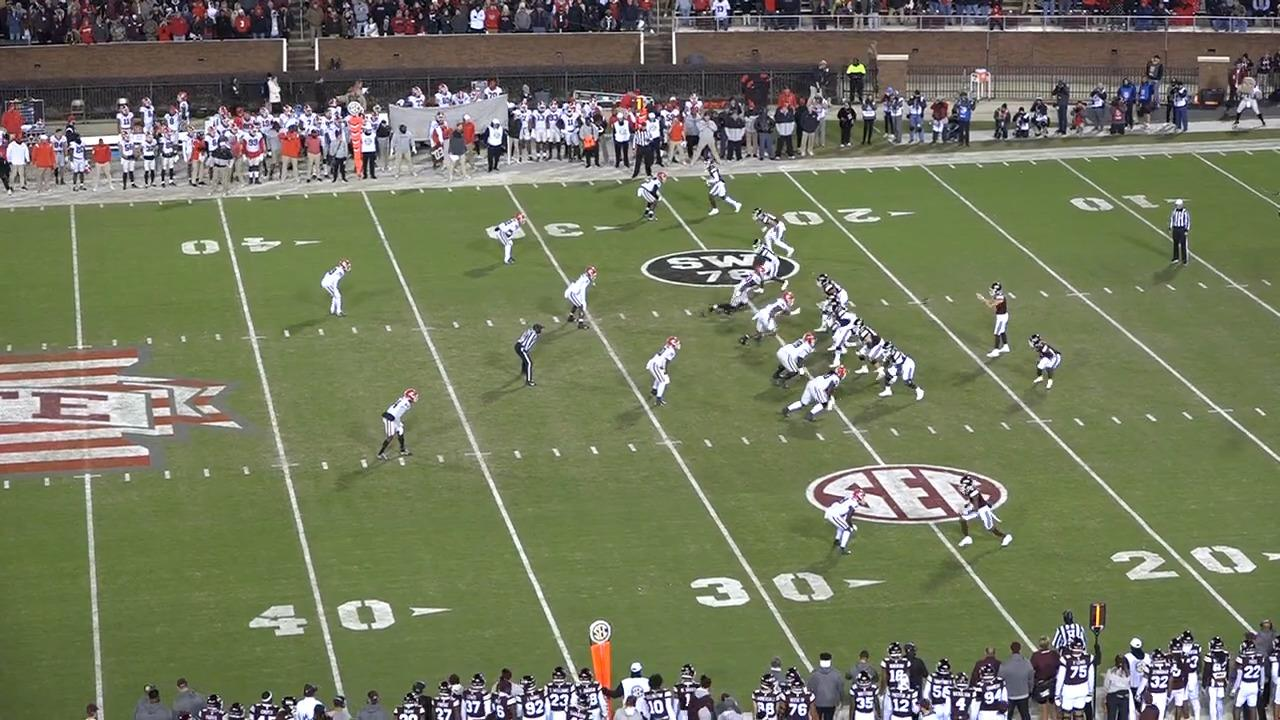player: (950, 471, 1013, 553), (785, 364, 850, 422), (374, 388, 418, 464), (734, 292, 792, 349), (879, 338, 929, 401), (821, 486, 861, 558), (709, 269, 763, 320), (770, 334, 816, 392), (650, 337, 685, 411), (707, 162, 748, 221), (819, 305, 858, 367), (746, 238, 787, 295), (980, 276, 1008, 359), (754, 208, 797, 261), (568, 264, 602, 330), (856, 320, 892, 382), (1025, 335, 1061, 394), (324, 256, 356, 317), (491, 211, 523, 266), (640, 171, 669, 224), (816, 298, 852, 338), (814, 274, 850, 310)
ref: (509, 323, 539, 391), (629, 120, 663, 179), (1166, 200, 1195, 268), (1055, 606, 1090, 658)
